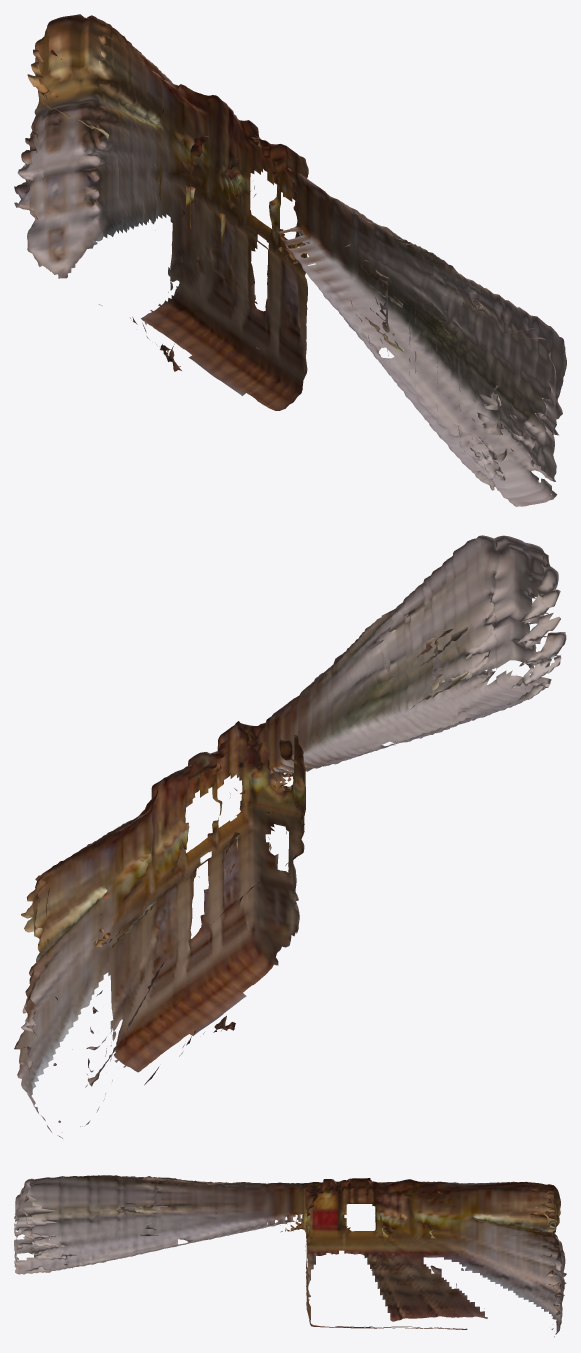
File: papertrail-diagon-alley-arrival-v20260502220452-f7568e86-collider.glb
The picture shows the model from 3 angles, top to bottom: view 1: azimuth 30°, elevation 25°; view 2: azimuth 150°, elevation 25°; view 3: azimuth 270°, elevation 25°; orthographic projection. The views are drawn at different scales.
Parts seen in each view (by area): view 1: world; view 2: world; view 3: world.
Part boxes in pixels (x1,y1,x2,y2): world: (14, 14, 566, 506); world: (14, 535, 566, 1138); world: (14, 1175, 566, 1337).
Bounding box in the file's own units: 2.46 × 7.75 × 24.92.
